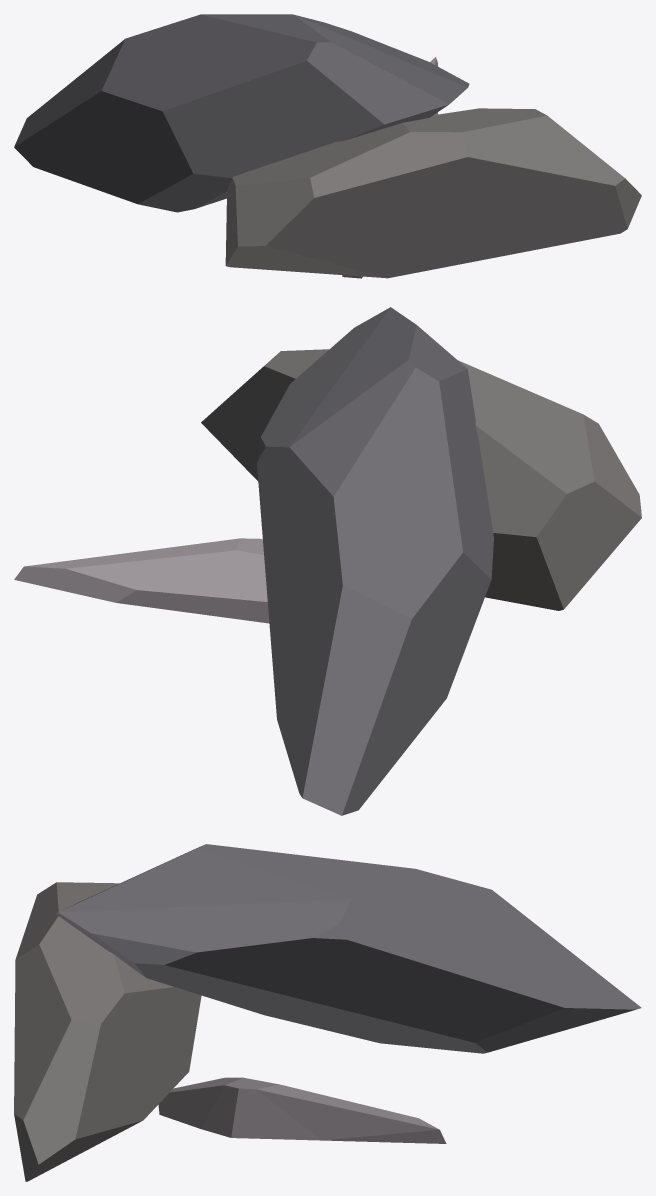
File: Rocks_Sharp_m_03.fbx
3 views of the same model, one above another, from view 1: azimuth 30°, elevation 25°; view 2: azimuth 150°, elevation 25°; view 3: azimuth 270°, elevation 25° (orthographic). The views are drawn at different scales.
Parts seen in each view (by area): view 1: Rocks_Sharp_m_03; view 2: Rocks_Sharp_m_03; view 3: Rocks_Sharp_m_03.
Part boxes in pixels (box(x1,y1,x2,y2)): Rocks_Sharp_m_03: box(14, 14, 641, 278); Rocks_Sharp_m_03: box(14, 307, 641, 815); Rocks_Sharp_m_03: box(14, 844, 641, 1181).
Bounding box in the file's own units: 138 × 78.73 × 173.
